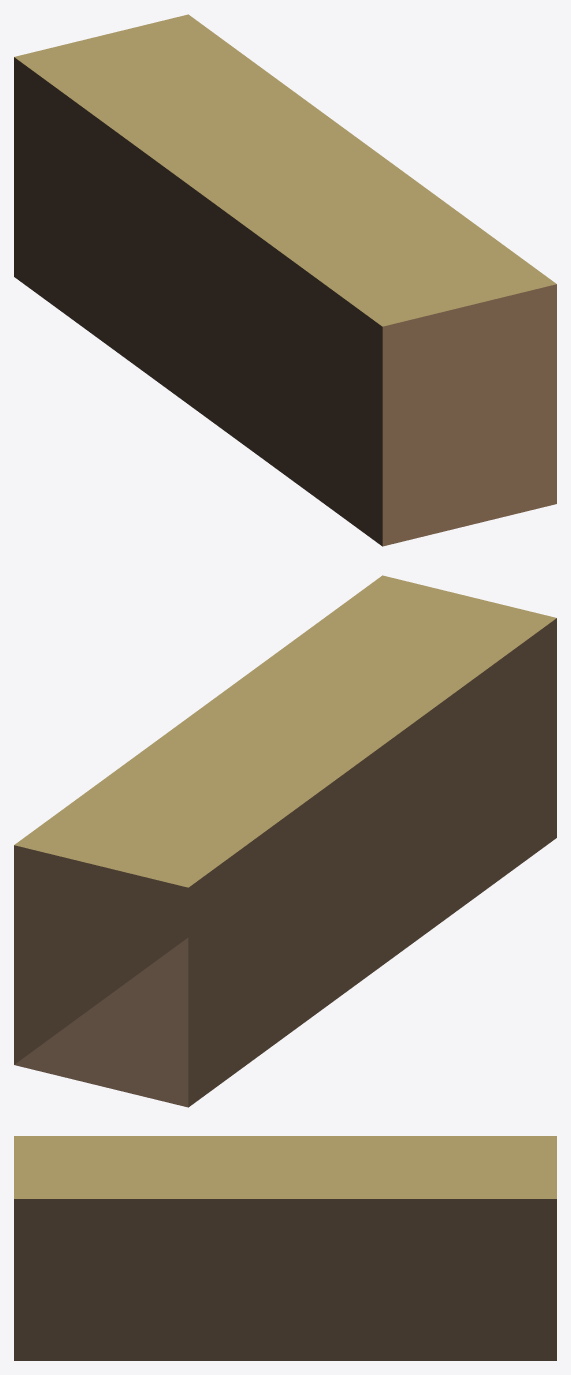
The model's file is TB_D_Bd_Wood_A.FBX.
The picture shows the model from 3 angles, top to bottom: view 1: azimuth 30°, elevation 25°; view 2: azimuth 150°, elevation 25°; view 3: azimuth 270°, elevation 25°; orthographic projection. The views are drawn at different scales.
Visible parts, largest first — view 1: TB_D_Bd_Wood_A; view 2: TB_D_Bd_Wood_A; view 3: TB_D_Bd_Wood_A.
Boxes of the visible parts, bbox=[...] form: TB_D_Bd_Wood_A: bbox=[14, 14, 556, 546]; TB_D_Bd_Wood_A: bbox=[14, 575, 556, 1107]; TB_D_Bd_Wood_A: bbox=[14, 1136, 556, 1360].
Bounding box in the file's own units: 0.2565 × 0.3089 × 0.9384.
